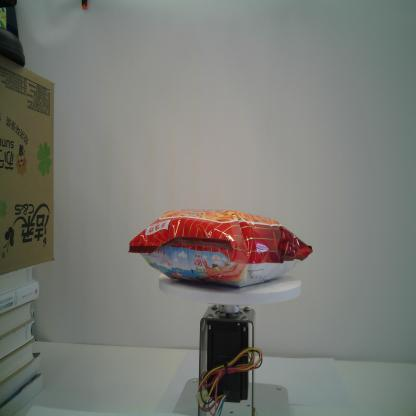Puffed Food: (127, 209, 313, 287)
